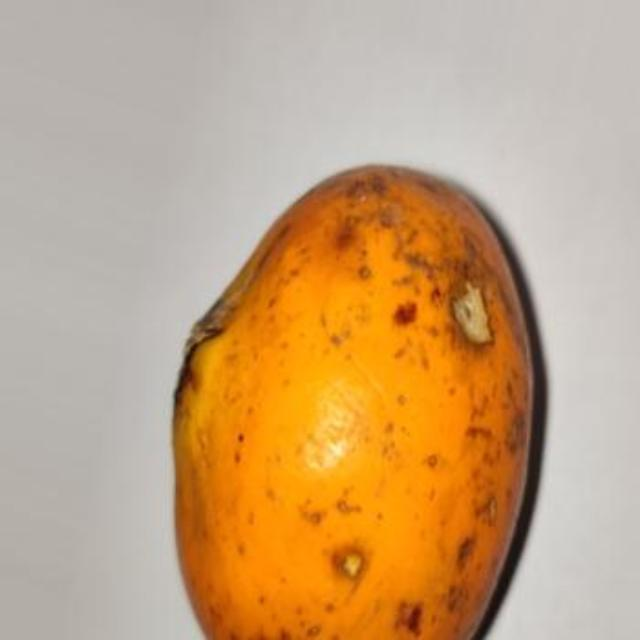good: (172, 165, 547, 638)
